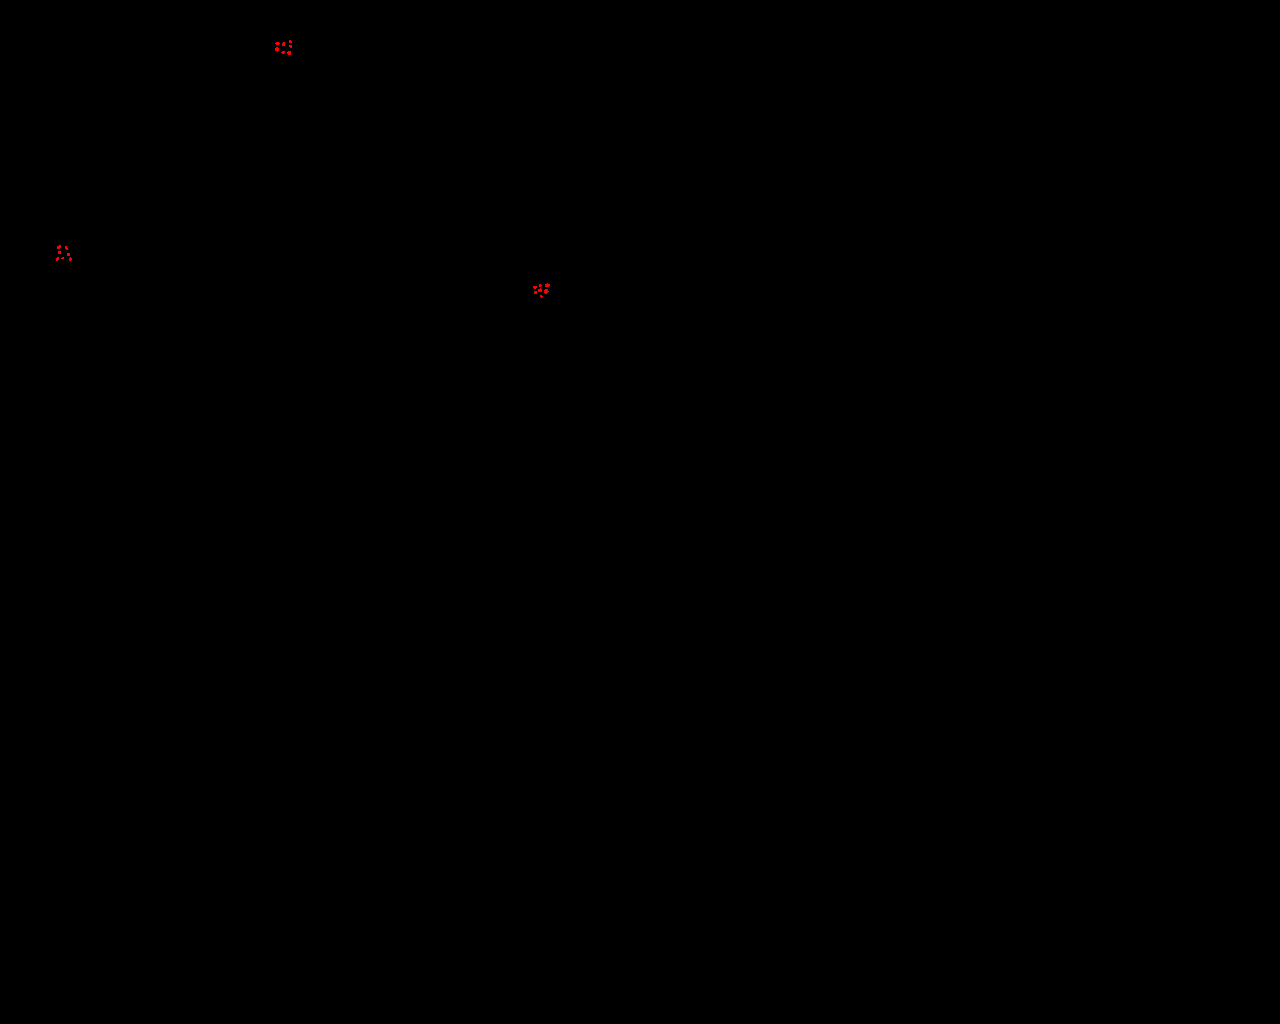Target: (275, 47, 279, 52), (545, 283, 550, 287), (544, 289, 549, 294), (275, 42, 280, 45), (282, 42, 285, 46), (281, 51, 285, 54), (287, 51, 290, 55), (57, 245, 61, 249), (65, 246, 68, 250), (69, 257, 72, 261), (533, 286, 537, 289), (538, 288, 542, 292), (67, 253, 70, 256), (539, 284, 542, 287), (534, 290, 537, 294), (540, 295, 543, 298), (56, 257, 59, 261), (289, 40, 292, 43), (289, 45, 292, 48), (59, 251, 61, 254), (61, 257, 64, 259)
